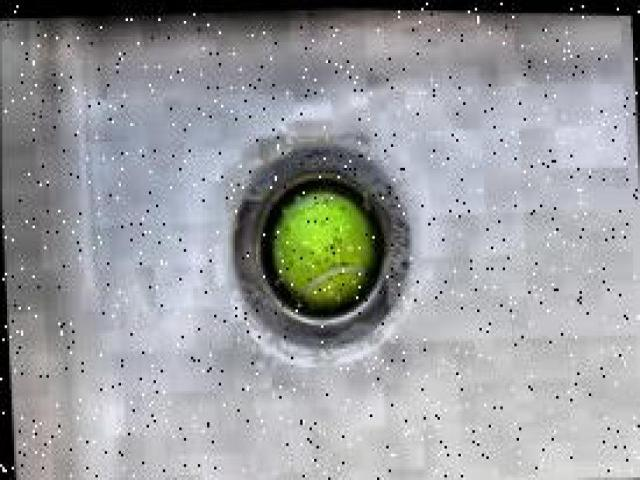tennis-ball: (269, 184, 376, 314)
